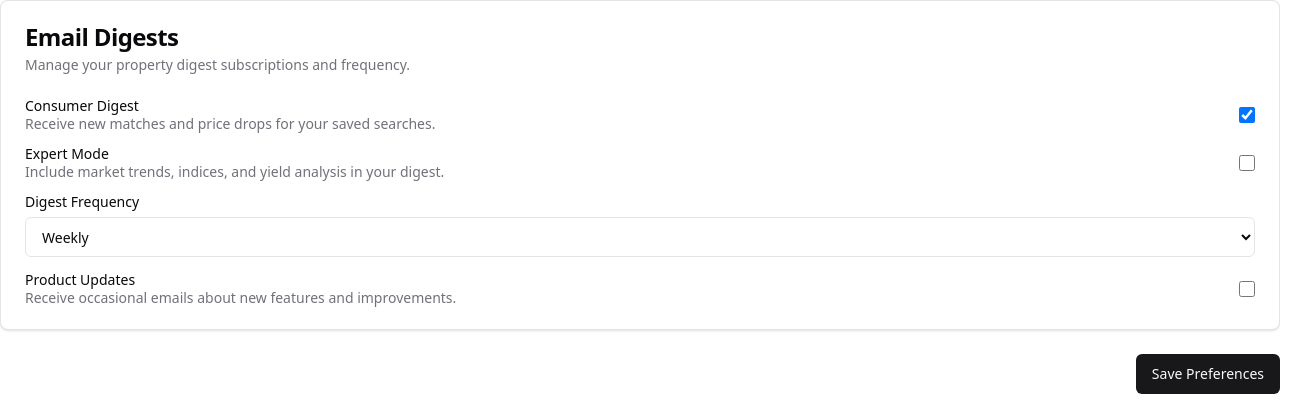
Test case: NotificationSettings Component › handles save error
The image size is (1292, 411).
Expected: the heading "Email Digests" is shown, [25,20,178,53]
Click the button "Save Preferences". click: (1208, 374)
box: [1136,354,1280,394]
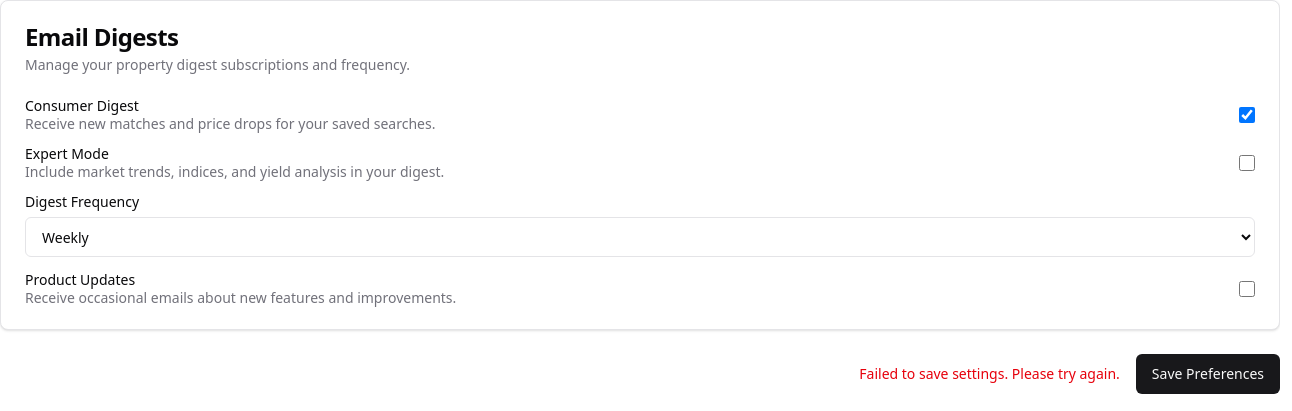
Now the text "Failed to save settings. Please try again." is shown, box [859,364,1120,384]
